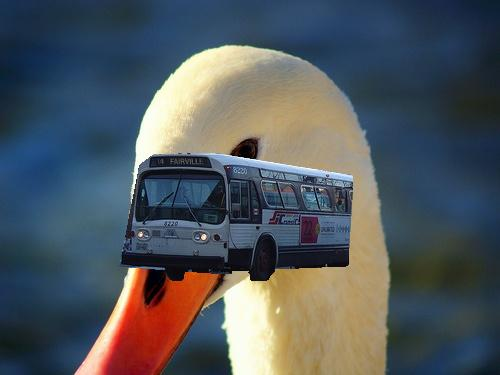tampered: (120, 154, 353, 281)
